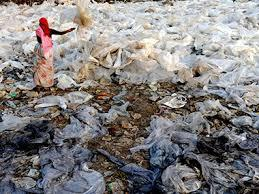Plastic bag: (6, 3, 259, 194)
